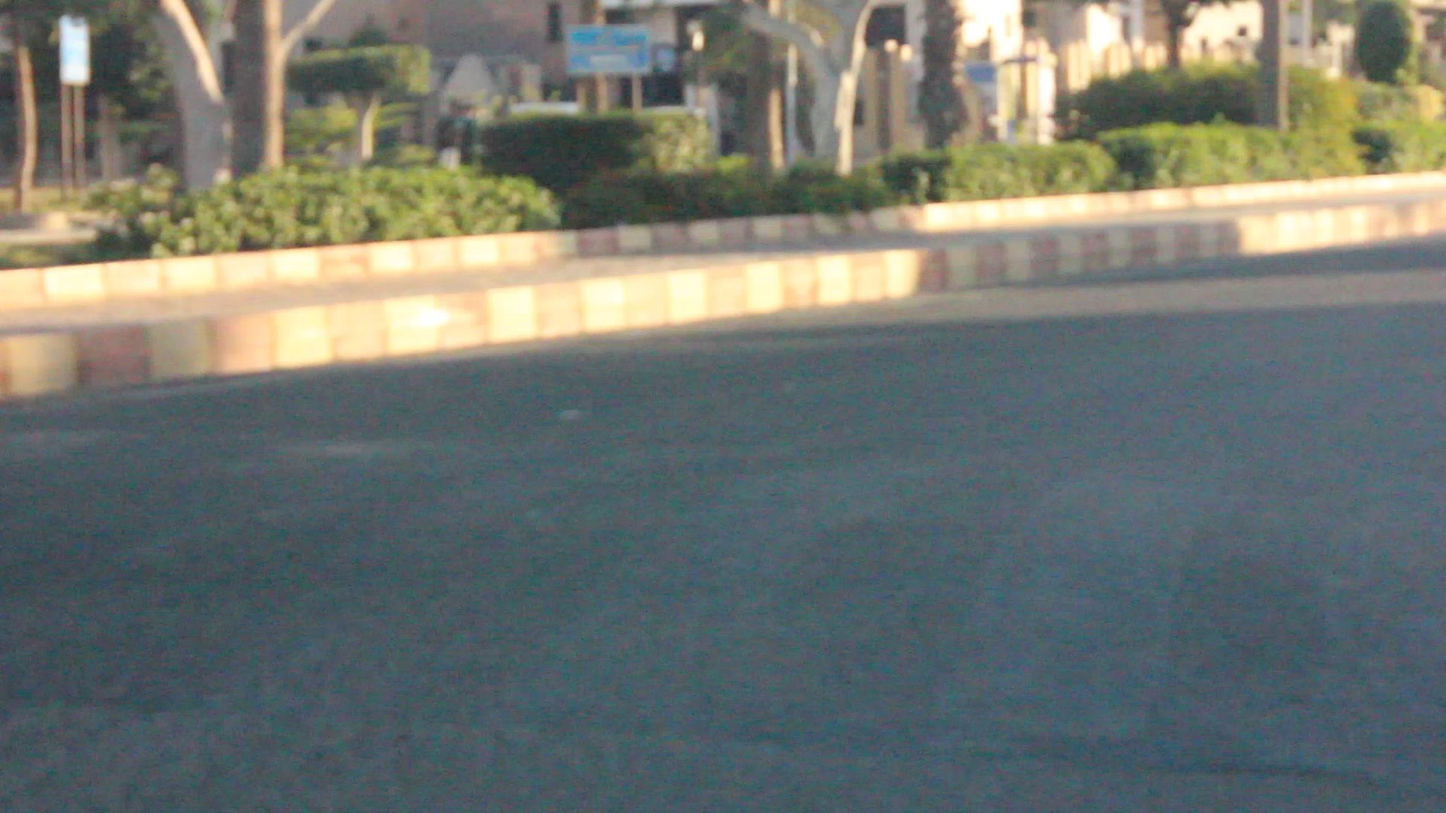Bump: (0, 414, 1446, 736)
